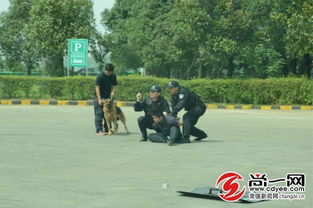fall: (135, 109, 188, 146)
